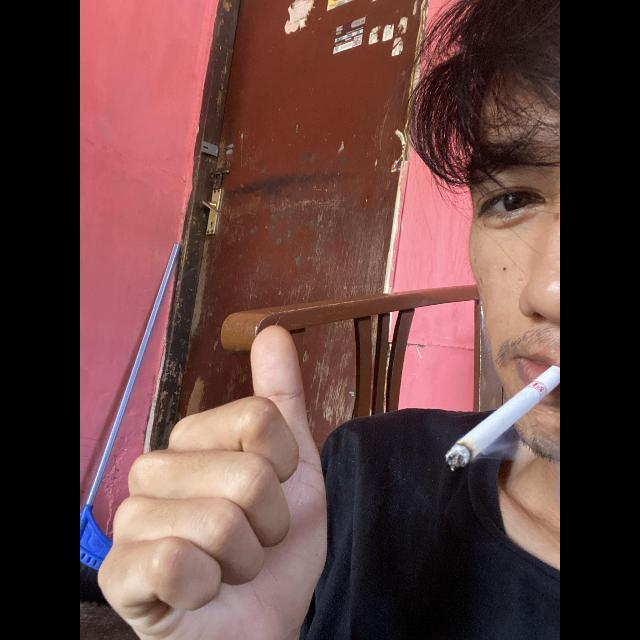rokok: (442, 361, 560, 475)
